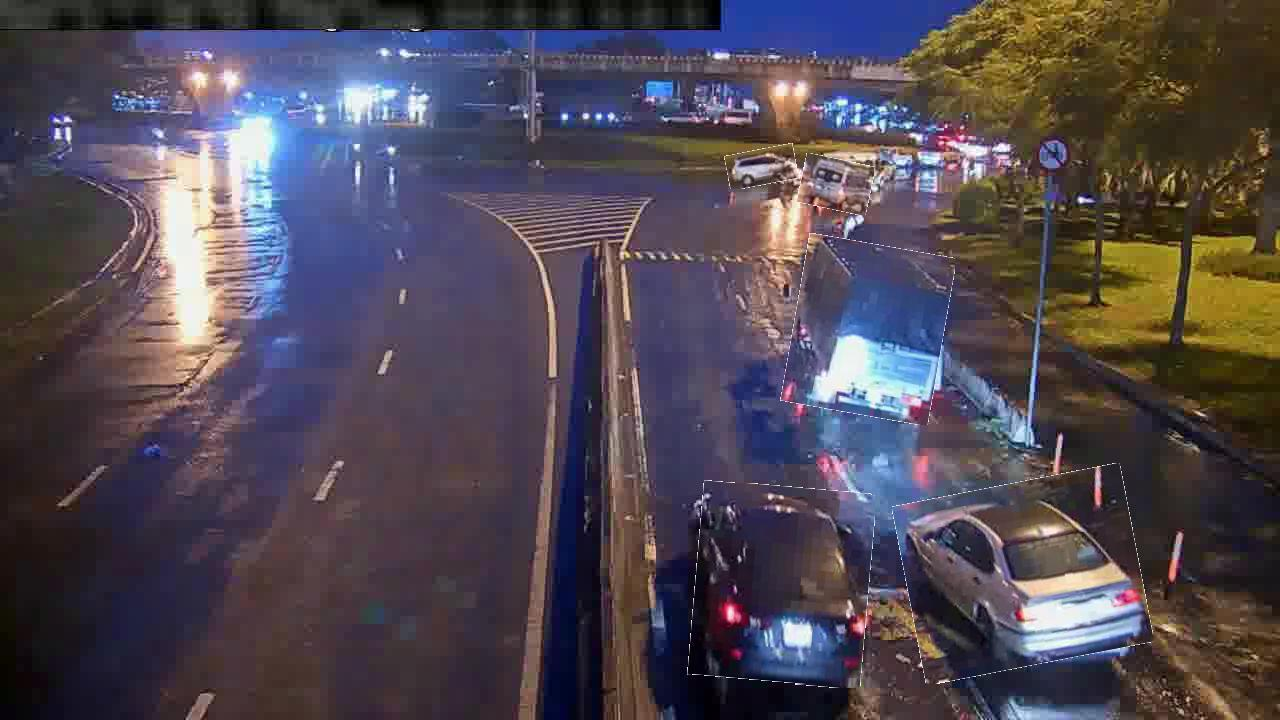14: (799, 157, 873, 213)
8: (787, 239, 950, 421)
container: (900, 473, 1147, 675), (691, 484, 872, 686), (726, 146, 797, 187)
